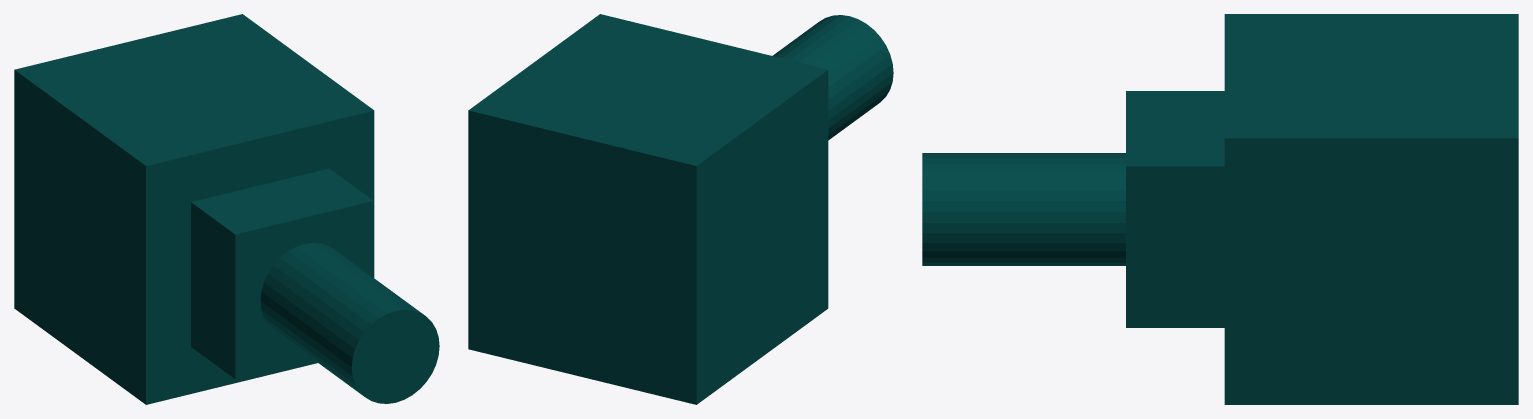
The picture shows the model from 3 angles, left to right: view 1: azimuth 30°, elevation 25°; view 2: azimuth 150°, elevation 25°; view 3: azimuth 270°, elevation 25°; orthographic projection. The views are drawn at different scales.
Parts seen in each view (by area): view 1: Cube; view 2: Cube; view 3: Cube.
Part boxes in pixels (box(x1,y1,x2,y2)): Cube: box(14, 14, 439, 404); Cube: box(468, 14, 893, 404); Cube: box(922, 14, 1518, 404).
Size of the model in its own units: 200 by 200 by 406.
